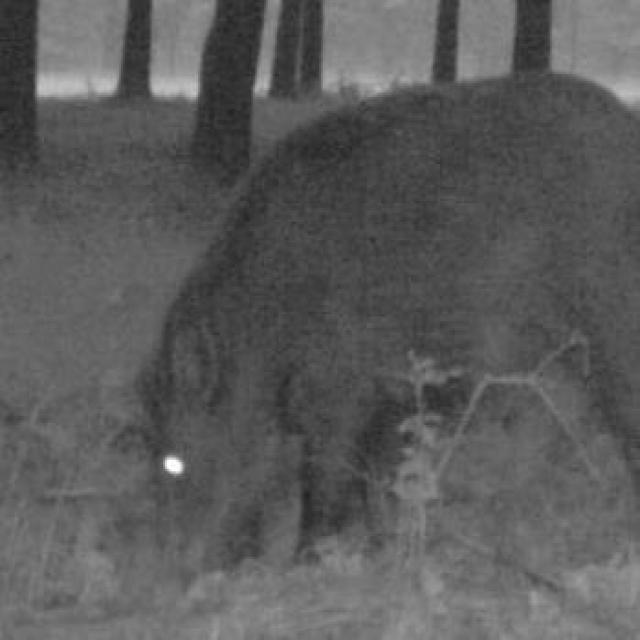pig: (85, 65, 640, 565)
